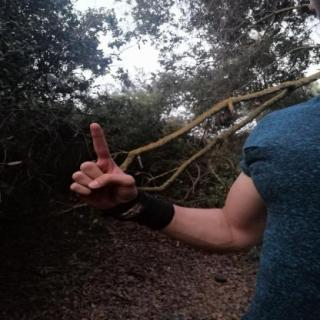BAA: (61, 116, 144, 224)
